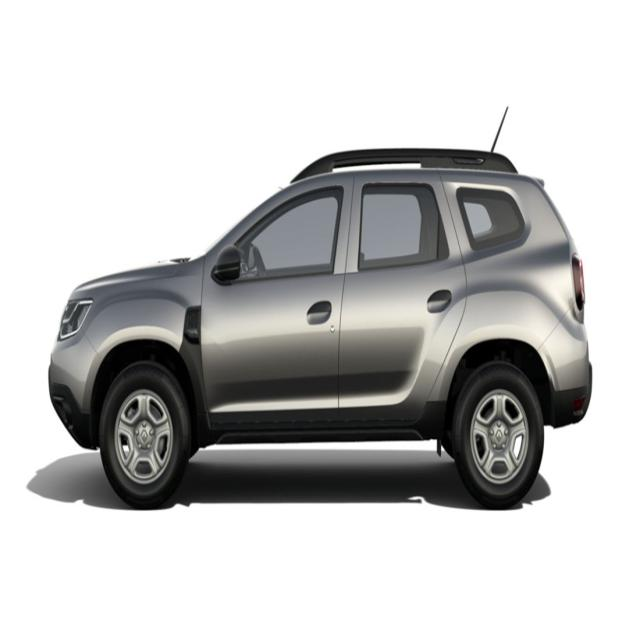SUV: (48, 135, 590, 508)
